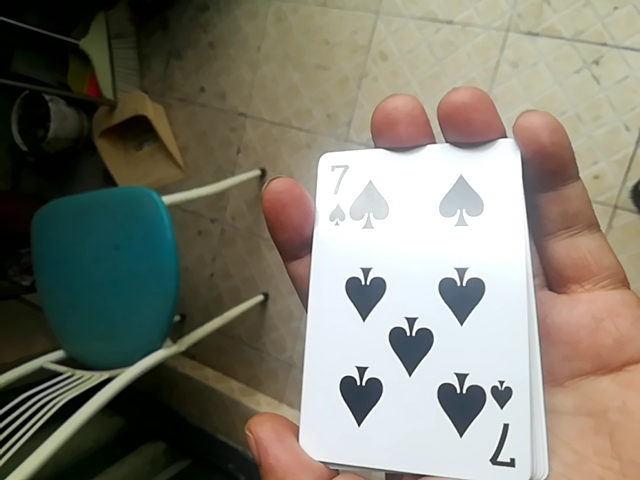ht 7: (302, 123, 542, 480)
